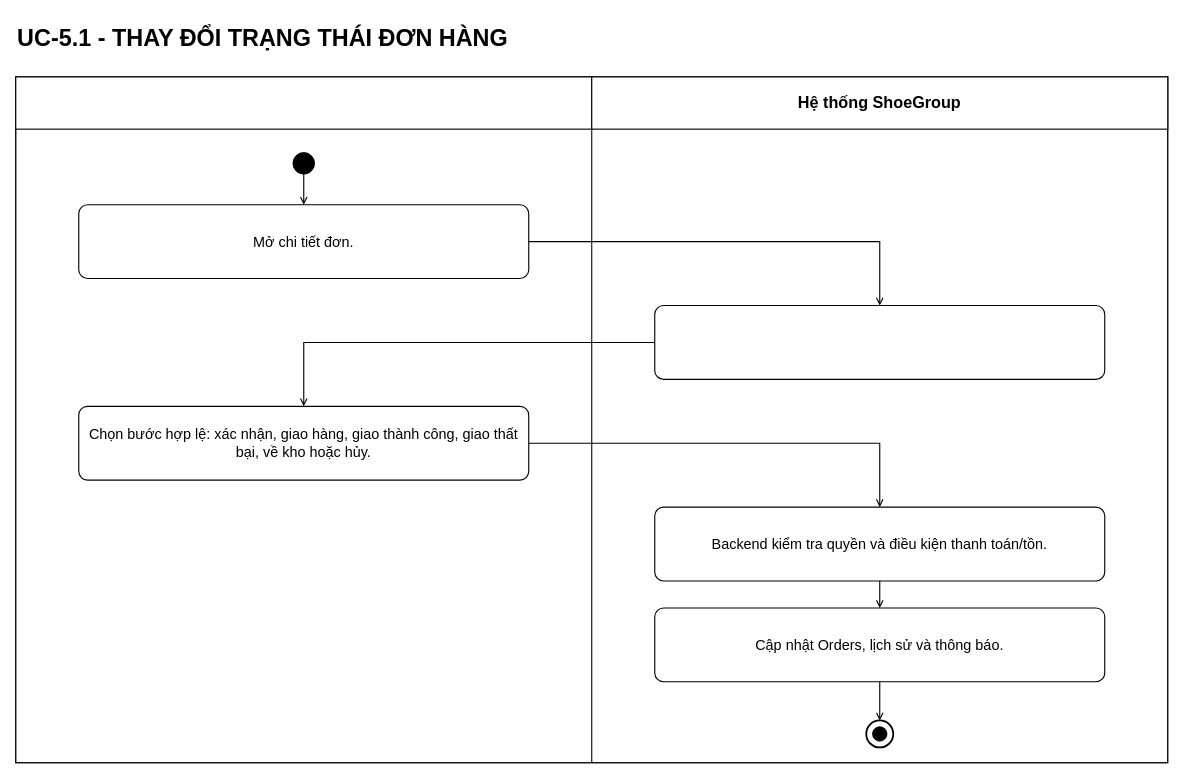
Image size: 1184x779. Some labels were removed from this diagram. Each missing label, with the centre of its shape:
Quản trị viên: the point at 303,102
Xem trạng thái và lịch sử.: the point at 879,342
